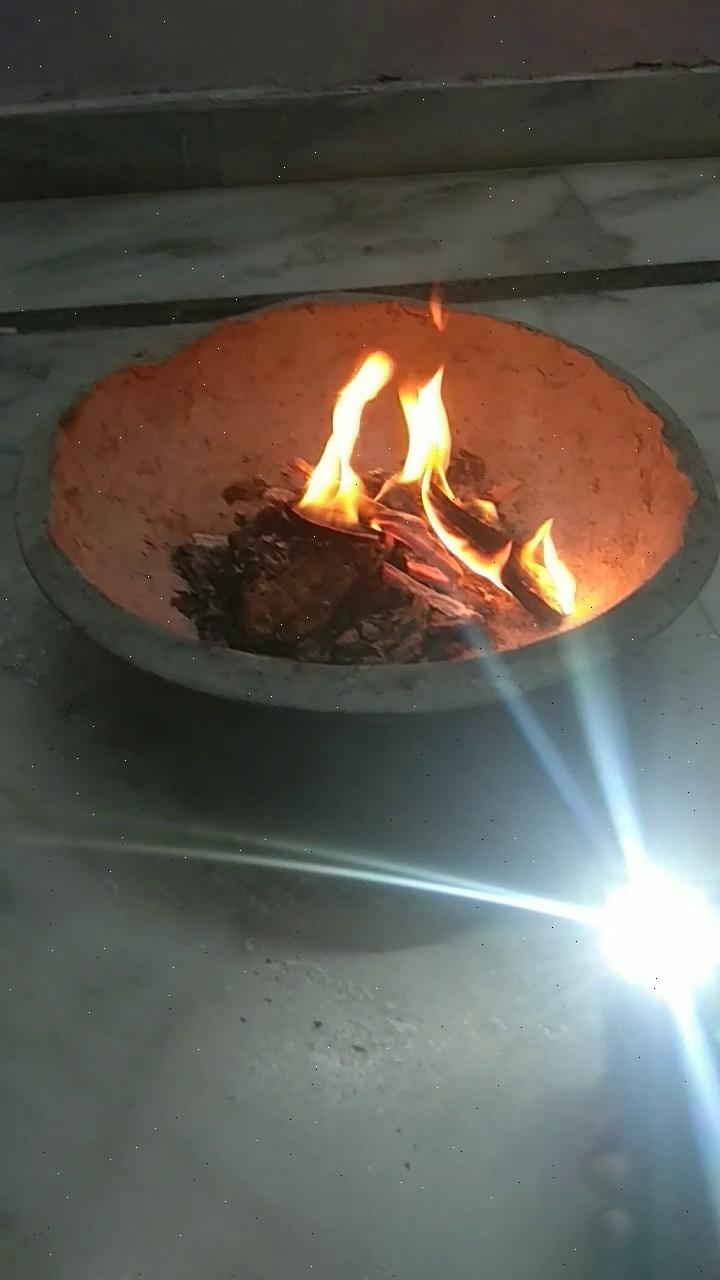fire: (293, 325, 591, 641)
